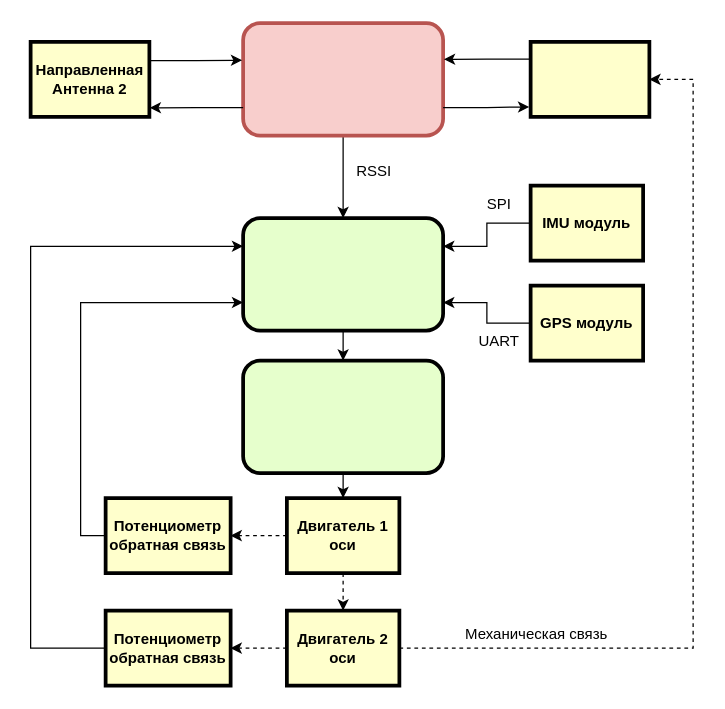
Image size: 725x709. Some labels were removed from this diagram. Each missing label, with the centre of its shape:
"Драйвер двигателей Драйвер управления двигателями привода" belongs at (x=342, y=416).
"Микроконтроллер Контроллер привода и модулей навигации STM32" belongs at (x=342, y=274).
"Направленная Антенна 1" belongs at (x=589, y=78).
"Ретранслятор Плата приема и передачи сигнала" belongs at (x=342, y=79).
